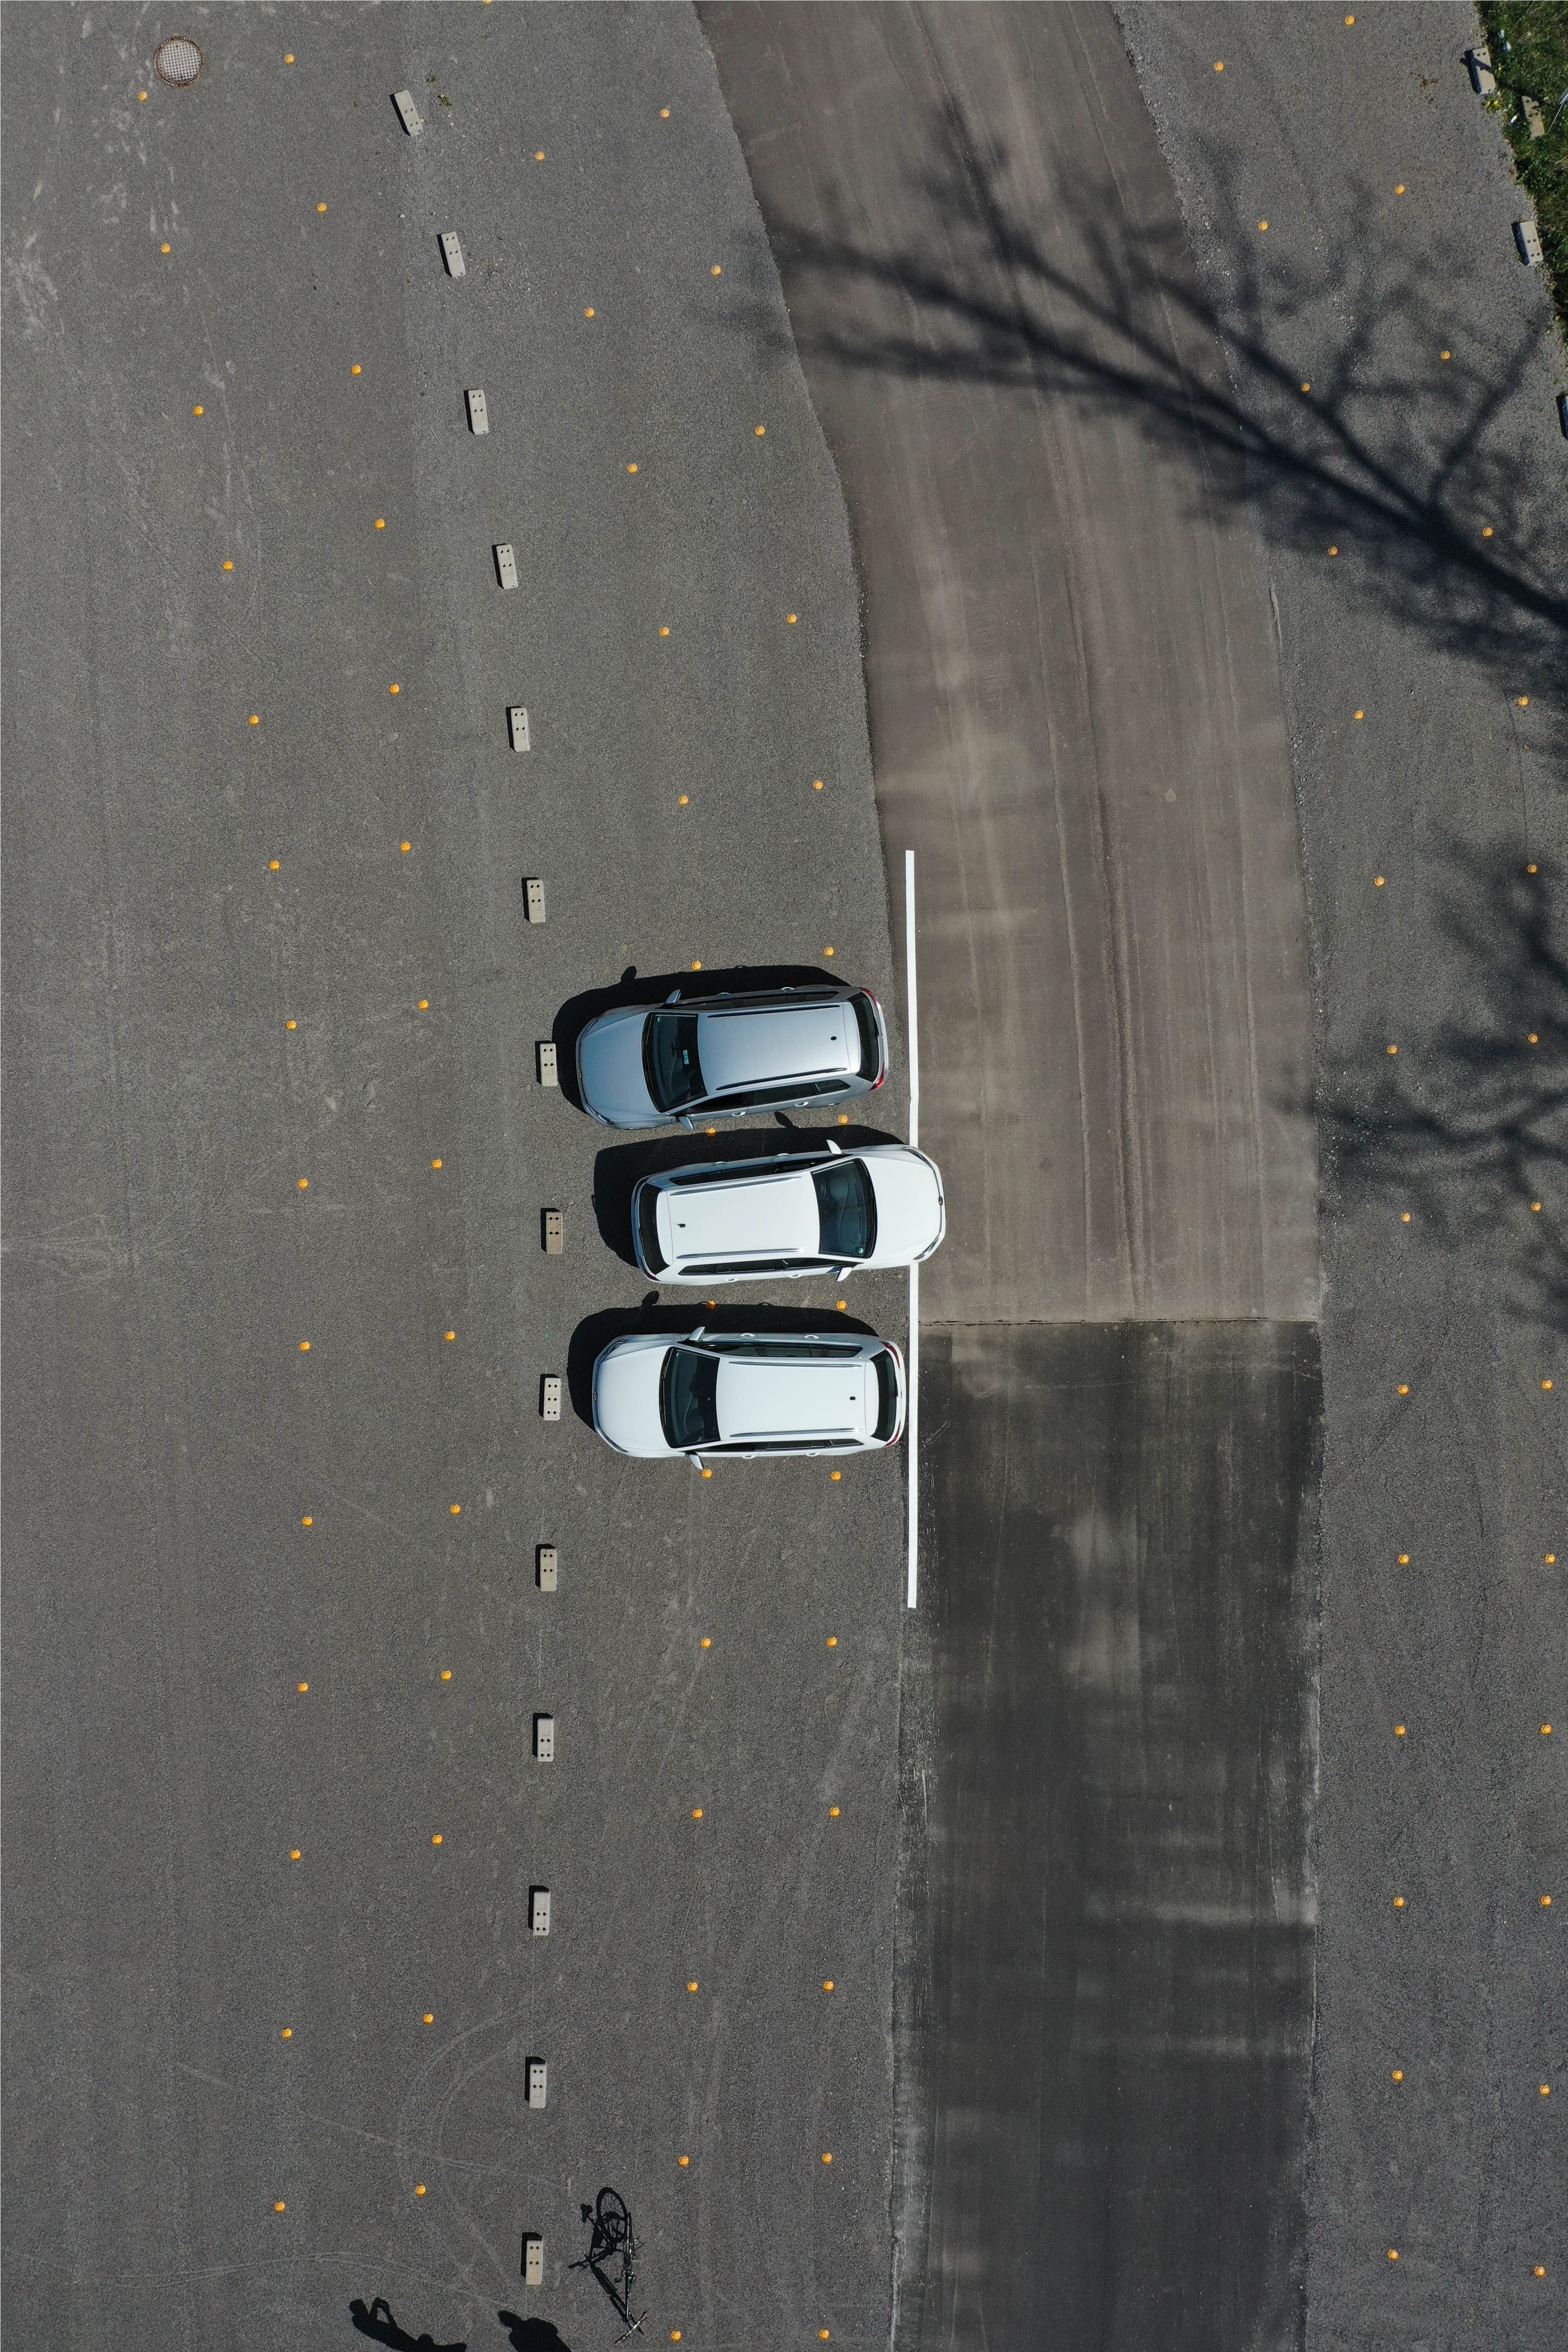Car: (572, 1314, 927, 1486), (562, 955, 906, 1130), (627, 1123, 959, 1284)
LaneMark: (903, 1269, 922, 1620), (906, 847, 919, 1144)
